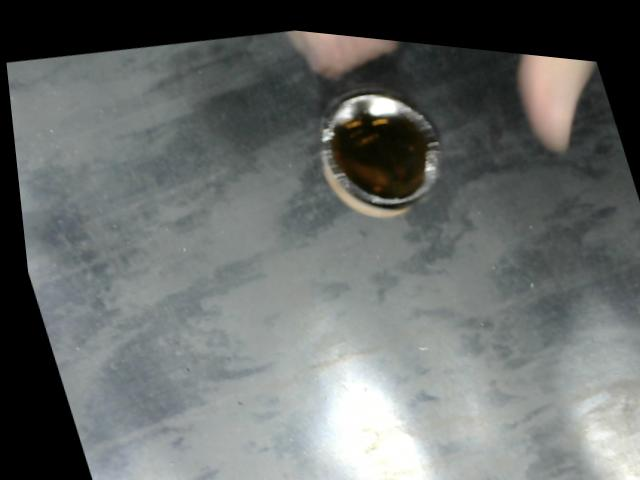glass: (296, 63, 464, 230)
